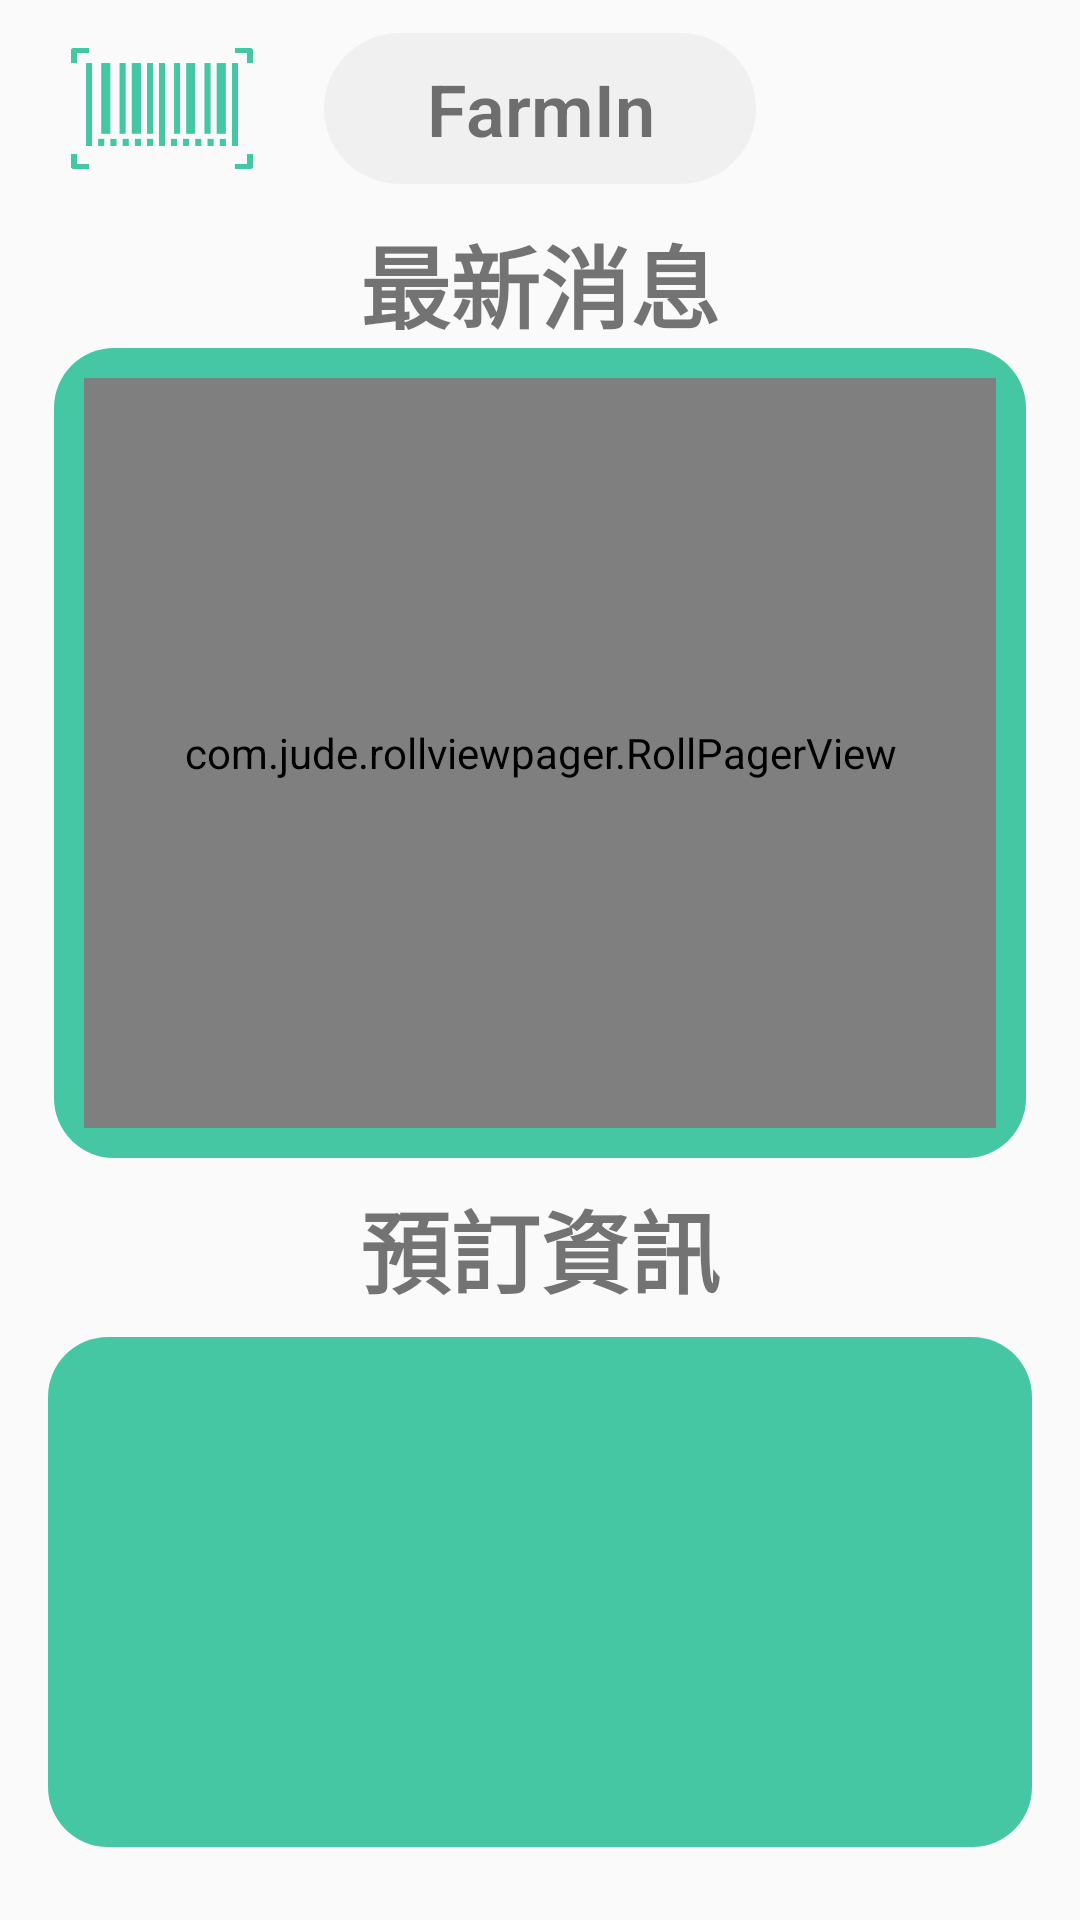

Point at icon controls on the screen. Image size 1080 x 1920, points as point (x, y).
barcode: point (162, 108)
